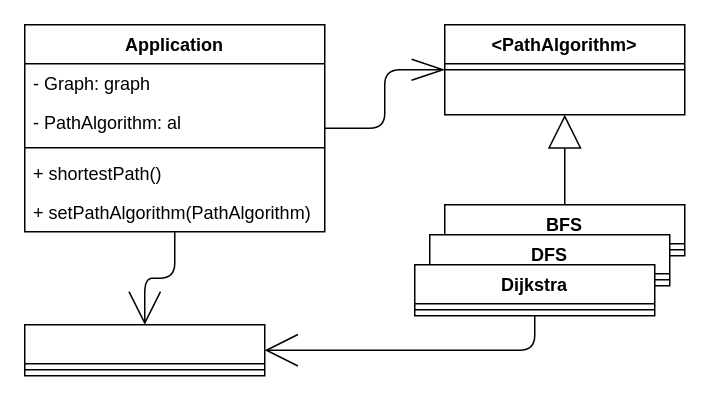
Some shapes in this 710 by 401 pixel diagram are drawn without their labels. Each missing label, with the centre of its shape:
"+ calcPath(Graph)" belongs at (564,69).
"Graph" belongs at (144,349).
